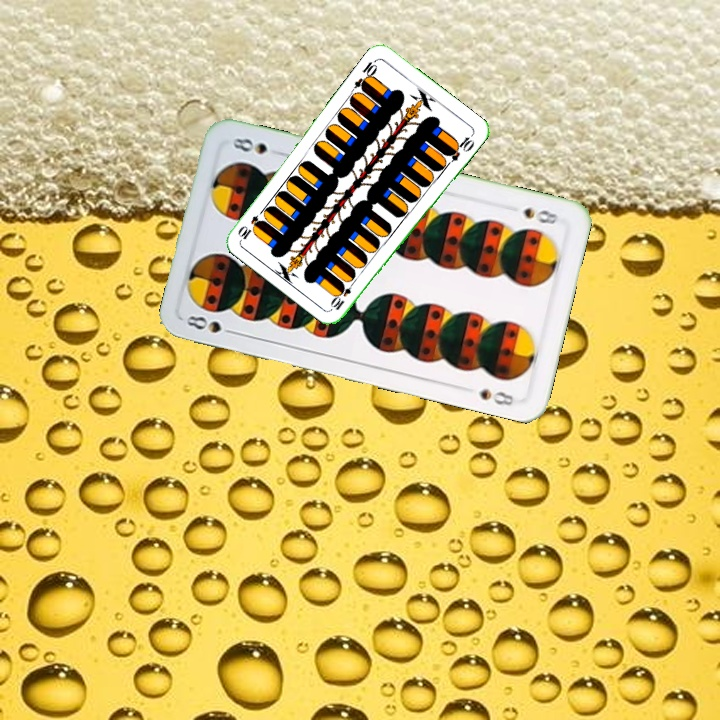E10: (327, 276, 358, 313), (350, 55, 380, 93)
S8: (182, 311, 240, 338), (519, 203, 562, 227)
